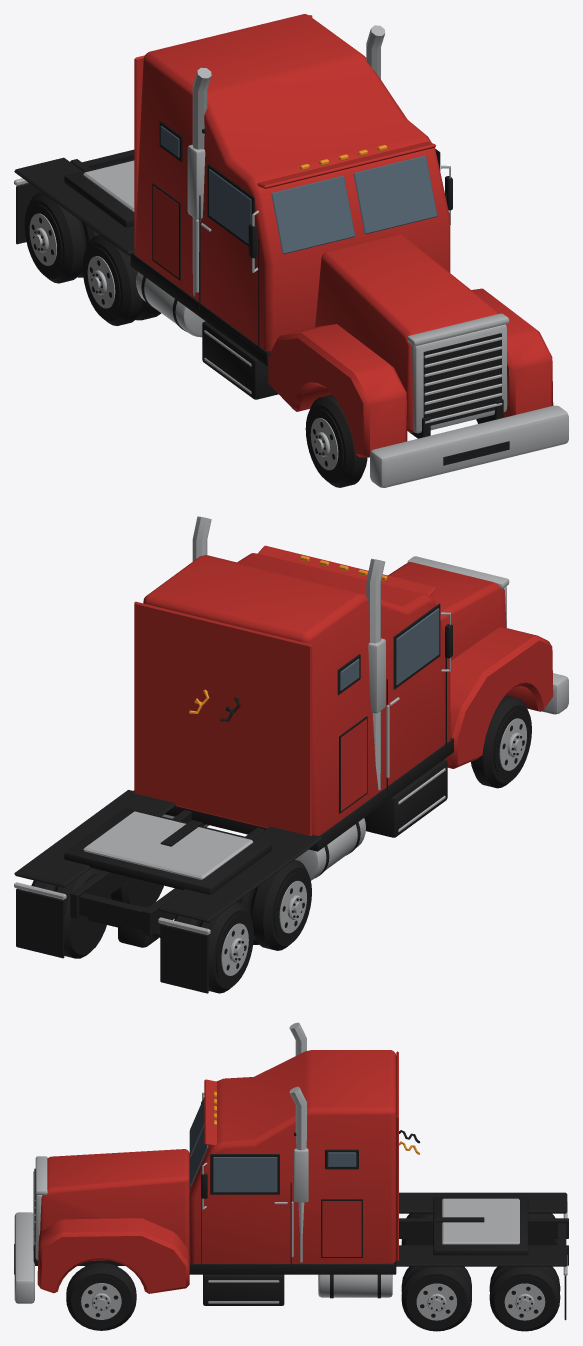
File: SemiTruckTractor.fbx
The picture shows the model from 3 angles, top to bottom: view 1: azimuth 30°, elevation 25°; view 2: azimuth 150°, elevation 25°; view 3: azimuth 270°, elevation 25°; orthographic projection. The views are drawn at different scales.
Parts seen in each view (by area): view 1: SemiTruck_Tractor_Mesh; view 2: SemiTruck_Tractor_Mesh; view 3: SemiTruck_Tractor_Mesh.
Boxes of the visible parts, left/top/right/bottom form: SemiTruck_Tractor_Mesh: left=14, top=14, right=568, bottom=487; SemiTruck_Tractor_Mesh: left=14, top=516, right=568, bottom=993; SemiTruck_Tractor_Mesh: left=14, top=1022, right=568, bottom=1331.
Bounding box in the file's own units: 2.63 × 3.96 × 8.19.
